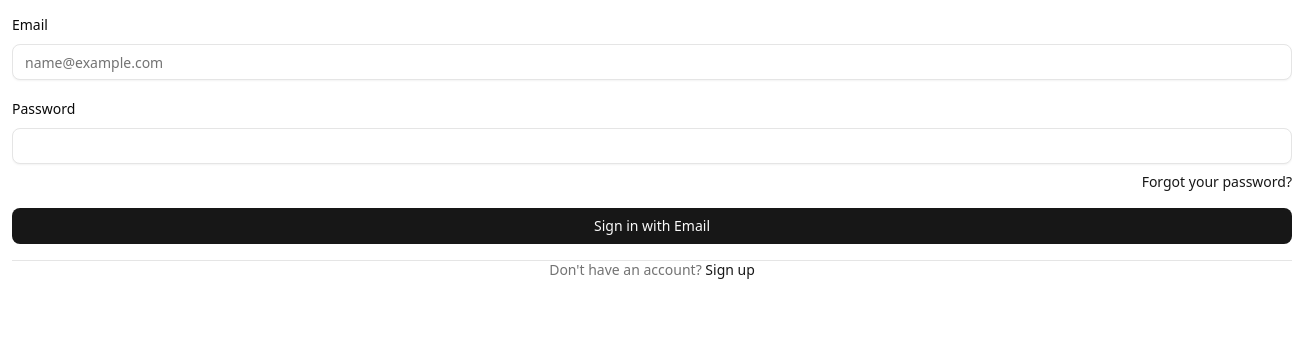
LoginForm › prevents submission with invalid data
# Fill in invalid data
Type "invalid-email" into the field with test id "login-email-input".
click(652, 62); type("invalid-email")  # box top-left (12, 44), bottom-right (1292, 80)
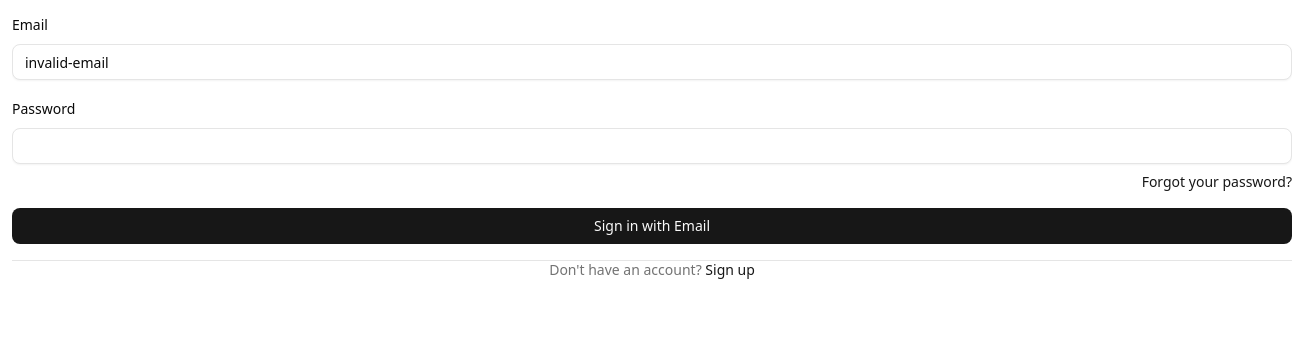
# Submit form
Click the button with test id "login-submit-button".
click(652, 226)  # box top-left (12, 208), bottom-right (1292, 244)
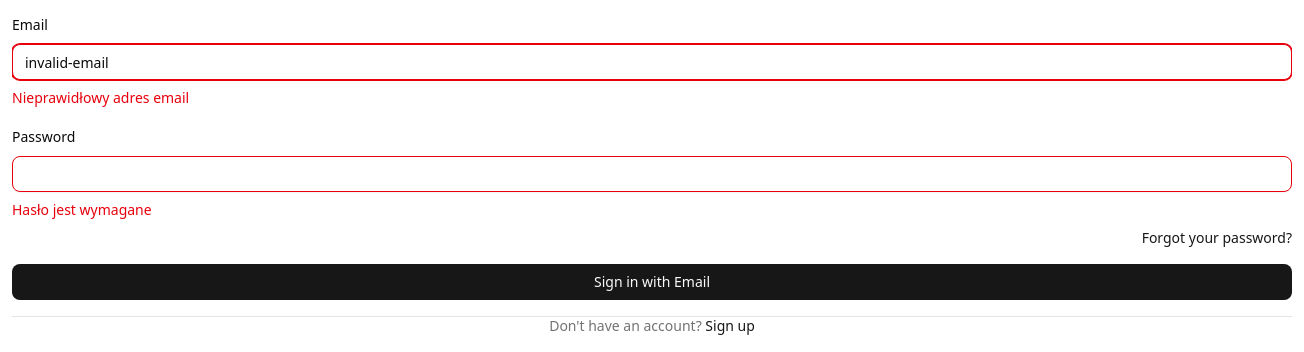
expect the text "Nieprawidłowy adres email" is shown: met, box top-left (12, 88), bottom-right (189, 107)
expect the text "Hasło jest wymagane" is shown: met, box top-left (12, 200), bottom-right (152, 219)
